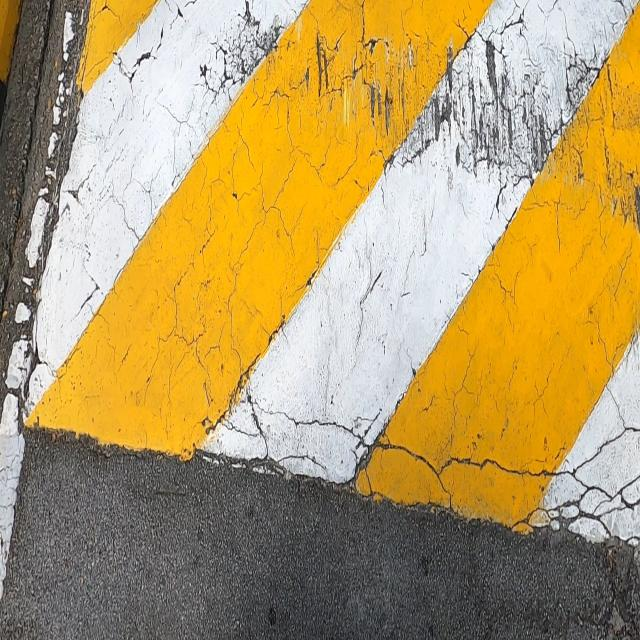Retak-Melintang: (283, 408, 639, 479)
